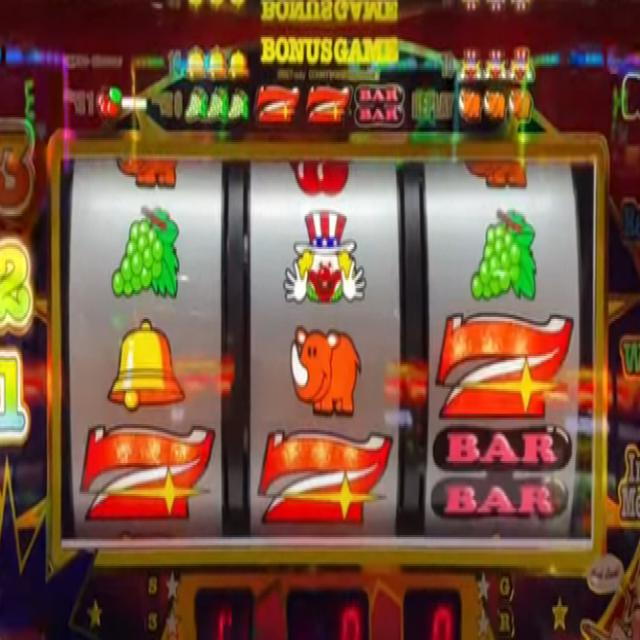bar: (432, 426, 570, 519), (357, 82, 404, 126)
bell: (107, 318, 186, 413), (186, 44, 207, 82), (228, 49, 248, 85), (207, 40, 224, 82)
cherry: (288, 159, 351, 195), (95, 86, 120, 120)
clown: (283, 208, 367, 310), (459, 46, 482, 87), (483, 49, 506, 84), (510, 47, 532, 81)
display: (60, 155, 594, 552)
elephant: (290, 322, 364, 412), (116, 152, 179, 190), (466, 156, 530, 190), (482, 88, 507, 122), (456, 88, 481, 121), (508, 88, 531, 121)
grape: (110, 203, 181, 302), (471, 207, 539, 307), (183, 86, 207, 124), (206, 83, 227, 121), (229, 91, 245, 124)
z: (435, 308, 574, 424), (80, 424, 217, 528), (258, 426, 392, 524), (306, 84, 351, 127), (258, 84, 298, 125)
